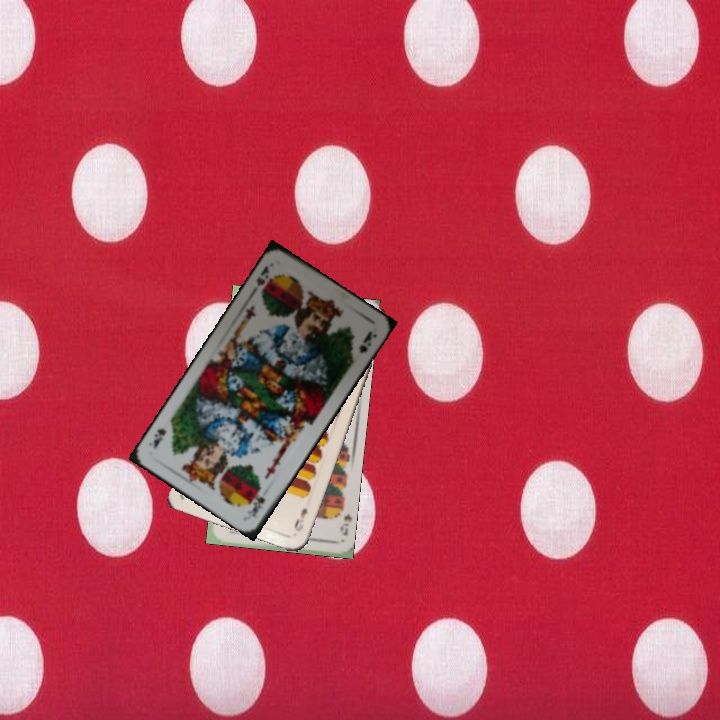E9: (290, 504, 311, 534)
S9: (333, 501, 353, 538)
SK: (243, 492, 268, 520), (252, 262, 272, 289)
